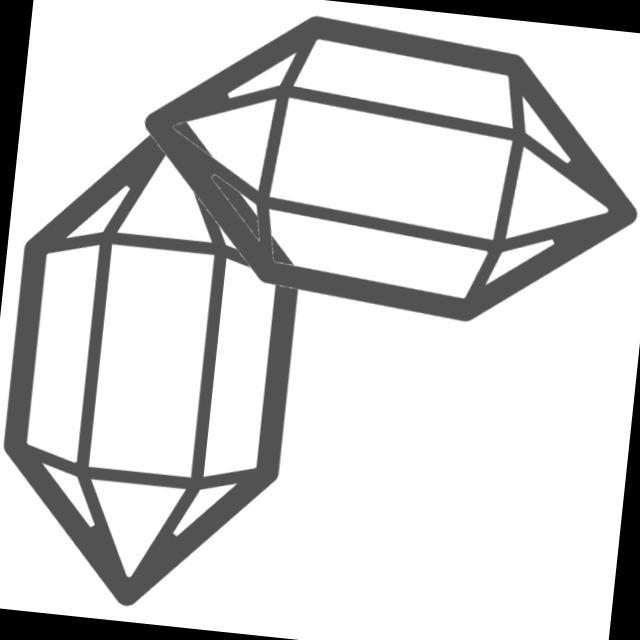crystal: (76, 1, 640, 350), (1, 108, 331, 628)
